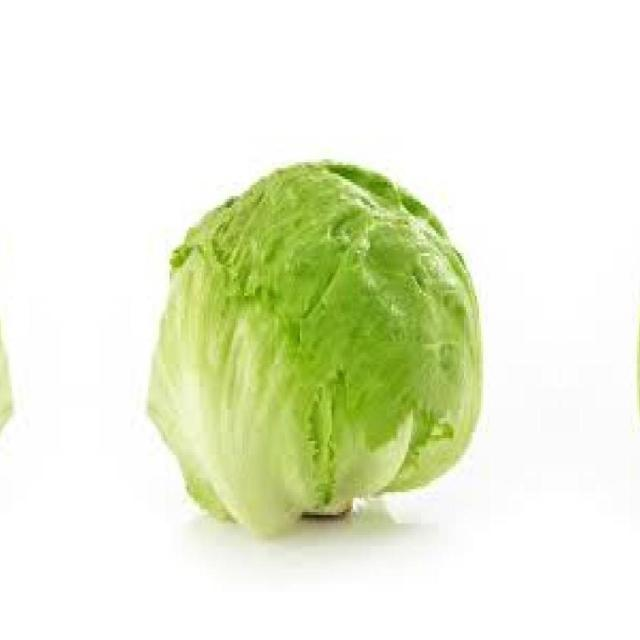healthy: (148, 154, 486, 526), (0, 153, 12, 526), (633, 153, 640, 526)
